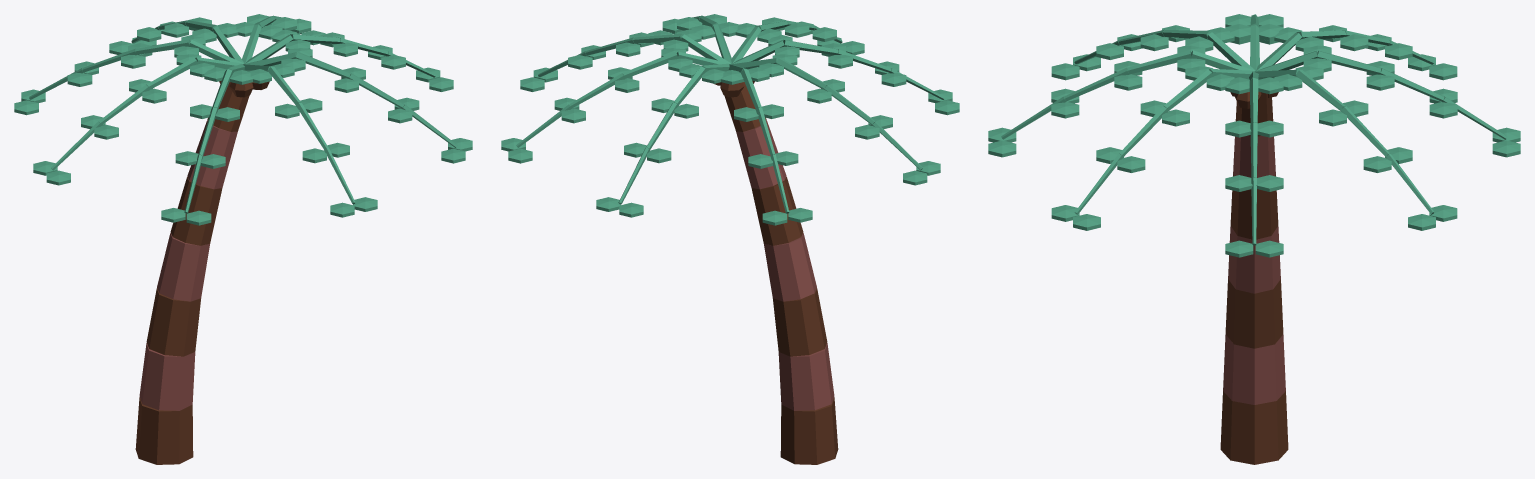
Rendered from ParkParkDecorPalm.obj.
3 views of the same model, side by side, from view 1: azimuth 30°, elevation 25°; view 2: azimuth 150°, elevation 25°; view 3: azimuth 270°, elevation 25° (orthographic). The views are drawn at different scales.
Visible parts, largest first — view 1: ParkParkDecorPalm; view 2: ParkParkDecorPalm; view 3: ParkParkDecorPalm.
Part boxes in pixels (<box>): ParkParkDecorPalm: <box>14,14,472,464</box>; ParkParkDecorPalm: <box>501,14,959,464</box>; ParkParkDecorPalm: <box>988,14,1520,464</box>.
Size of the model in its own units: 9.79 by 8.94 by 9.71.
